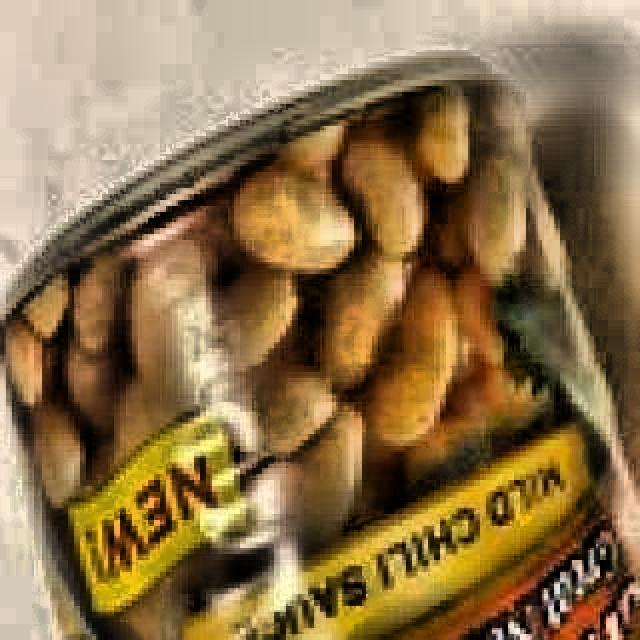metal: (0, 54, 640, 640)
